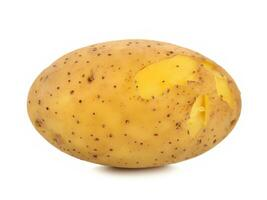potato: (20, 38, 240, 172)
